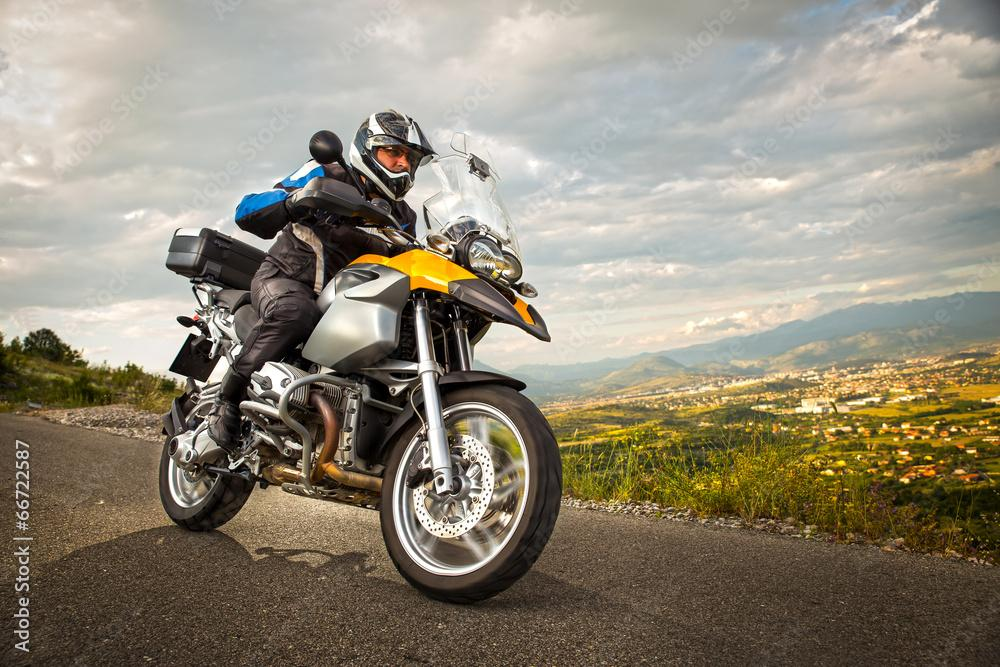helmet: (347, 107, 441, 204)
